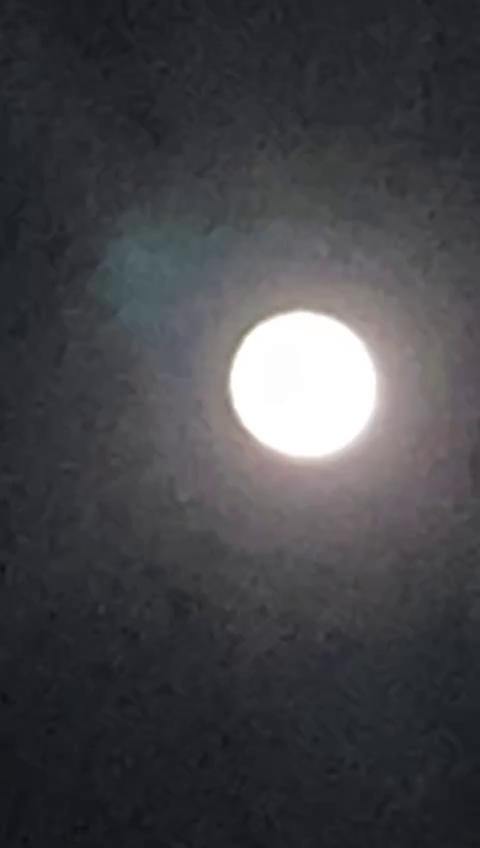moon: (215, 306, 385, 466)
